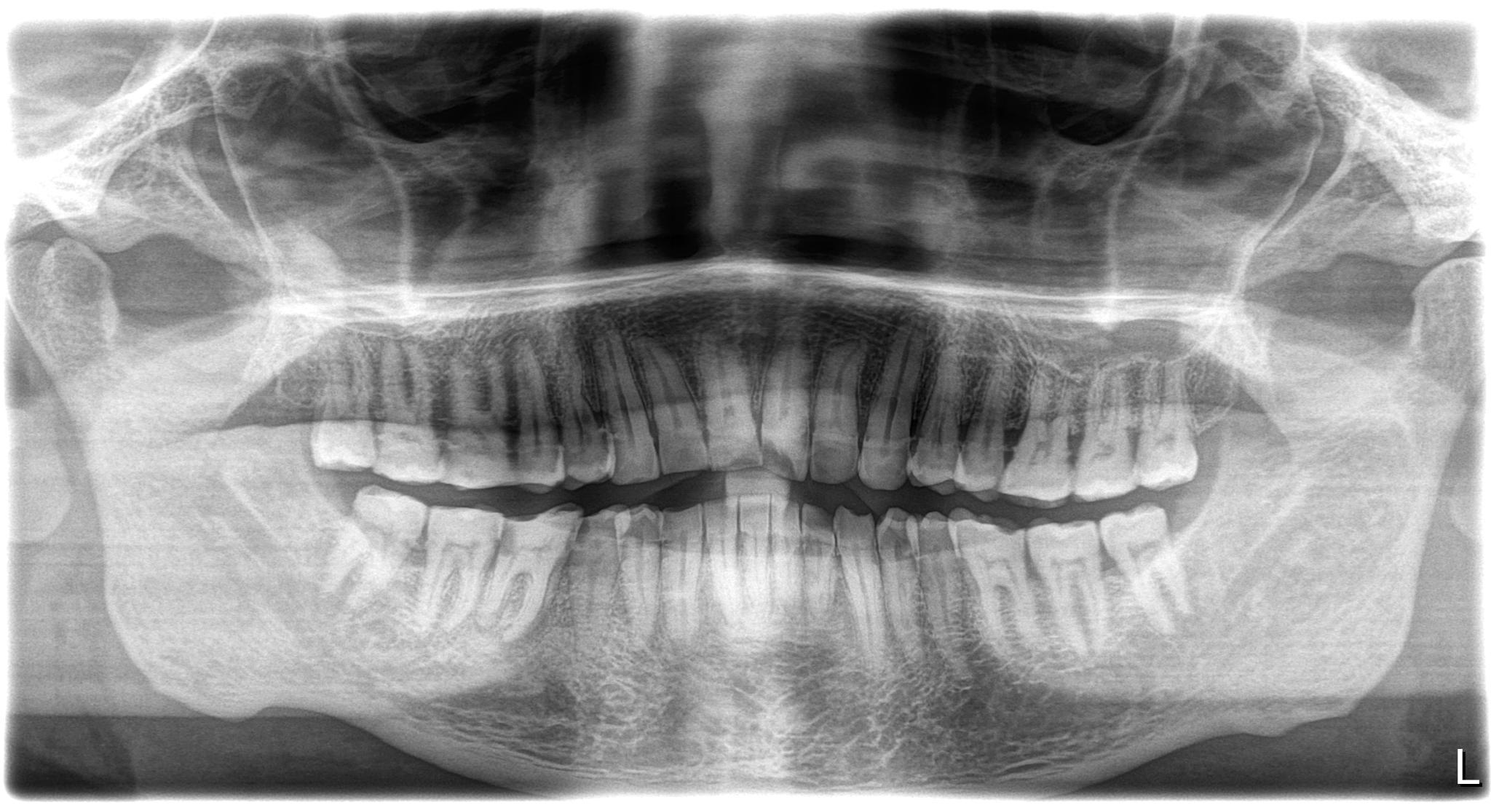Dental Caries: (1092, 548, 1125, 593), (1059, 424, 1090, 467), (411, 530, 433, 568), (1127, 424, 1147, 459)
Impacted Third Molar: (336, 493, 420, 604)
